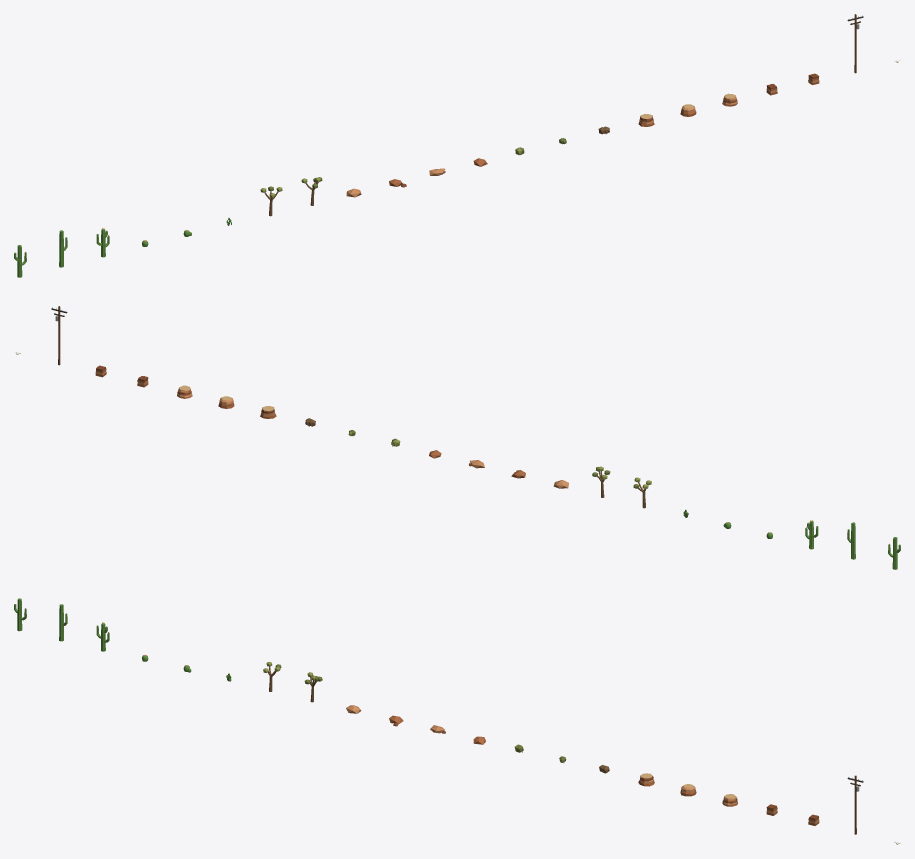
File: desert.glb
The picture shows the model from 3 angles, top to bottom: view 1: azimuth 30°, elevation 25°; view 2: azimuth 150°, elevation 25°; view 3: azimuth 330°, elevation 25°; orthographic projection.
Size of the model in its own units: 127 by 8.02 by 2.64.
